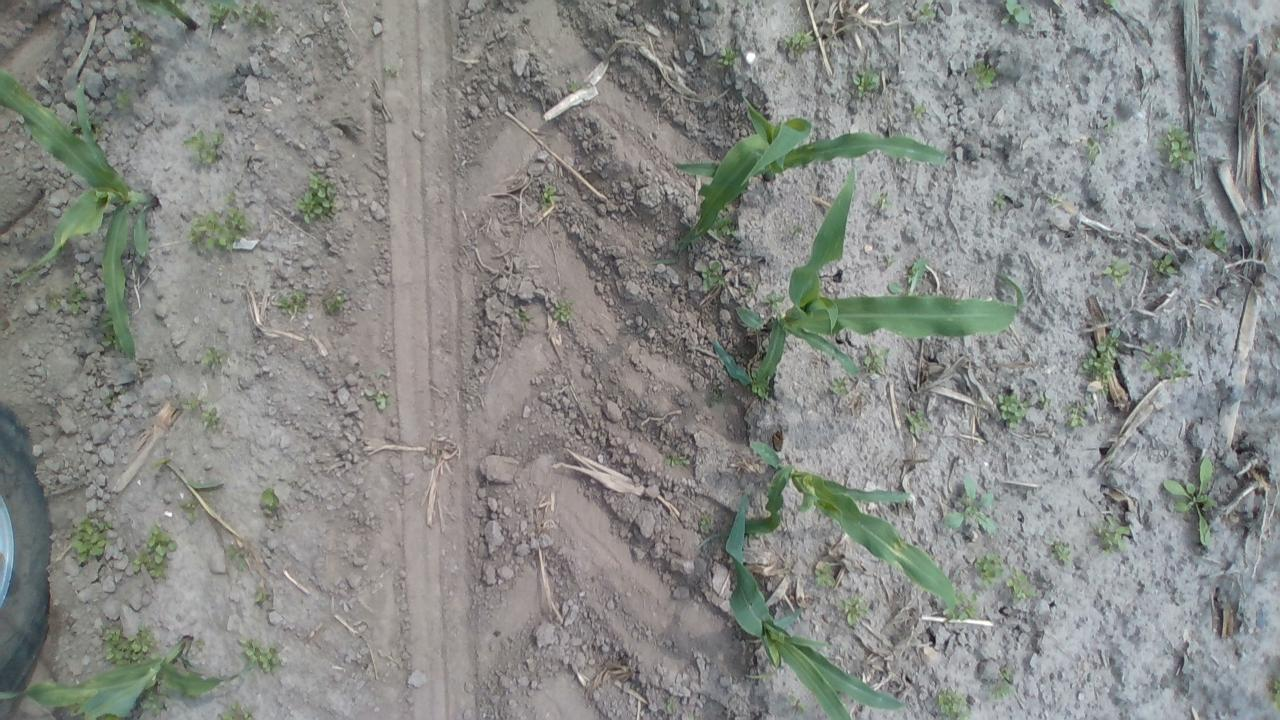Maize: (716, 159, 1026, 396), (694, 439, 965, 615), (0, 66, 160, 362), (722, 491, 916, 720), (669, 94, 950, 242), (0, 636, 258, 720)
Weeds: (1162, 452, 1222, 546), (941, 475, 1000, 538), (184, 200, 252, 254), (130, 526, 178, 582), (1081, 327, 1121, 392), (69, 514, 115, 570), (293, 172, 340, 224), (101, 623, 157, 666), (181, 126, 230, 172), (1140, 342, 1192, 382), (202, 0, 274, 28), (242, 636, 284, 678), (1096, 510, 1133, 556), (888, 256, 928, 296), (1158, 124, 1196, 166), (932, 686, 976, 719), (52, 276, 88, 314), (971, 550, 1006, 588), (996, 392, 1030, 430), (943, 594, 985, 624), (1002, 568, 1036, 604), (777, 28, 817, 58), (836, 594, 870, 628), (850, 66, 884, 98), (274, 286, 310, 316), (968, 60, 1001, 92), (1102, 256, 1136, 287), (185, 398, 221, 427), (860, 345, 891, 376), (138, 684, 168, 716), (698, 257, 724, 292), (1201, 224, 1231, 254), (1001, 0, 1034, 27), (990, 666, 1016, 700), (1149, 251, 1179, 278), (710, 208, 737, 238), (260, 484, 282, 520), (814, 560, 841, 589), (218, 702, 261, 720), (227, 542, 254, 569), (1064, 404, 1090, 432), (550, 296, 576, 324), (1047, 537, 1071, 566), (662, 450, 694, 471), (904, 408, 930, 433), (126, 28, 150, 55), (200, 346, 223, 374), (716, 46, 742, 70), (324, 290, 348, 316), (99, 317, 119, 348), (916, 1, 941, 25), (365, 389, 390, 413), (538, 182, 562, 207), (111, 87, 135, 112), (872, 190, 893, 216), (1084, 138, 1104, 164), (180, 499, 202, 522), (831, 375, 852, 398), (786, 694, 809, 715), (253, 584, 271, 610), (910, 99, 930, 122), (696, 512, 714, 537), (762, 290, 782, 312), (1100, 116, 1120, 138), (512, 308, 532, 328), (988, 192, 1008, 212), (1264, 676, 1276, 708), (1045, 192, 1066, 210), (1033, 394, 1052, 412), (662, 696, 678, 716), (90, 116, 106, 135), (564, 80, 582, 94), (1100, 0, 1120, 12)
